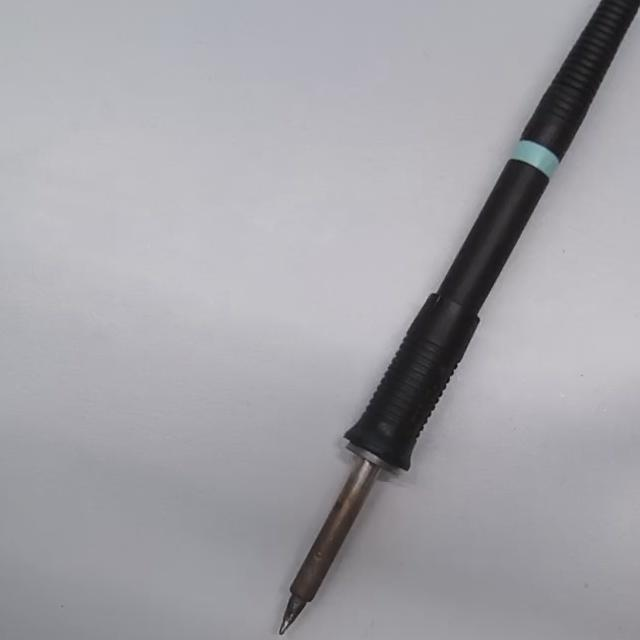soldering_iron: (278, 0, 640, 629)
